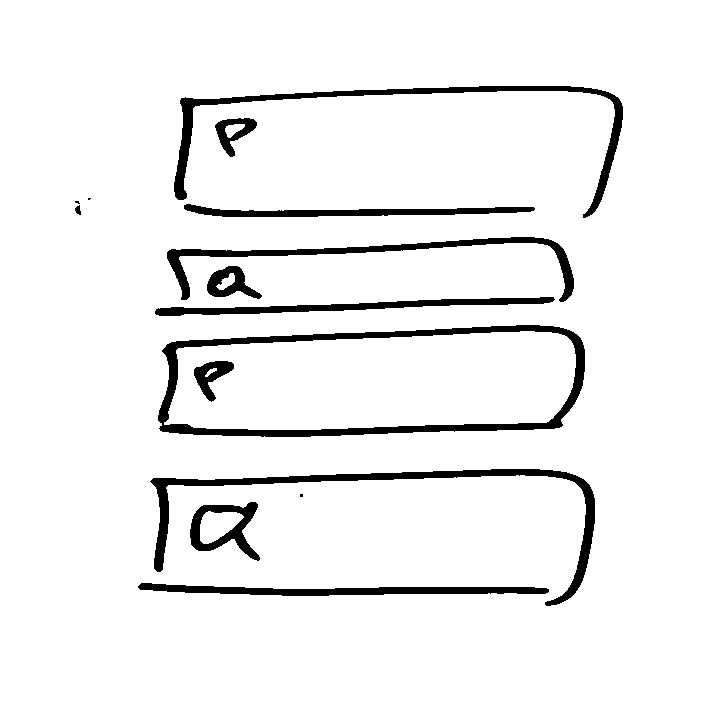paragraph: (166, 81, 630, 228), (159, 322, 590, 445)
search bar: (135, 463, 600, 612), (155, 234, 583, 322)
